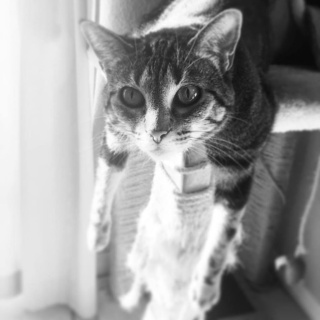Cat: (78, 0, 278, 311)
